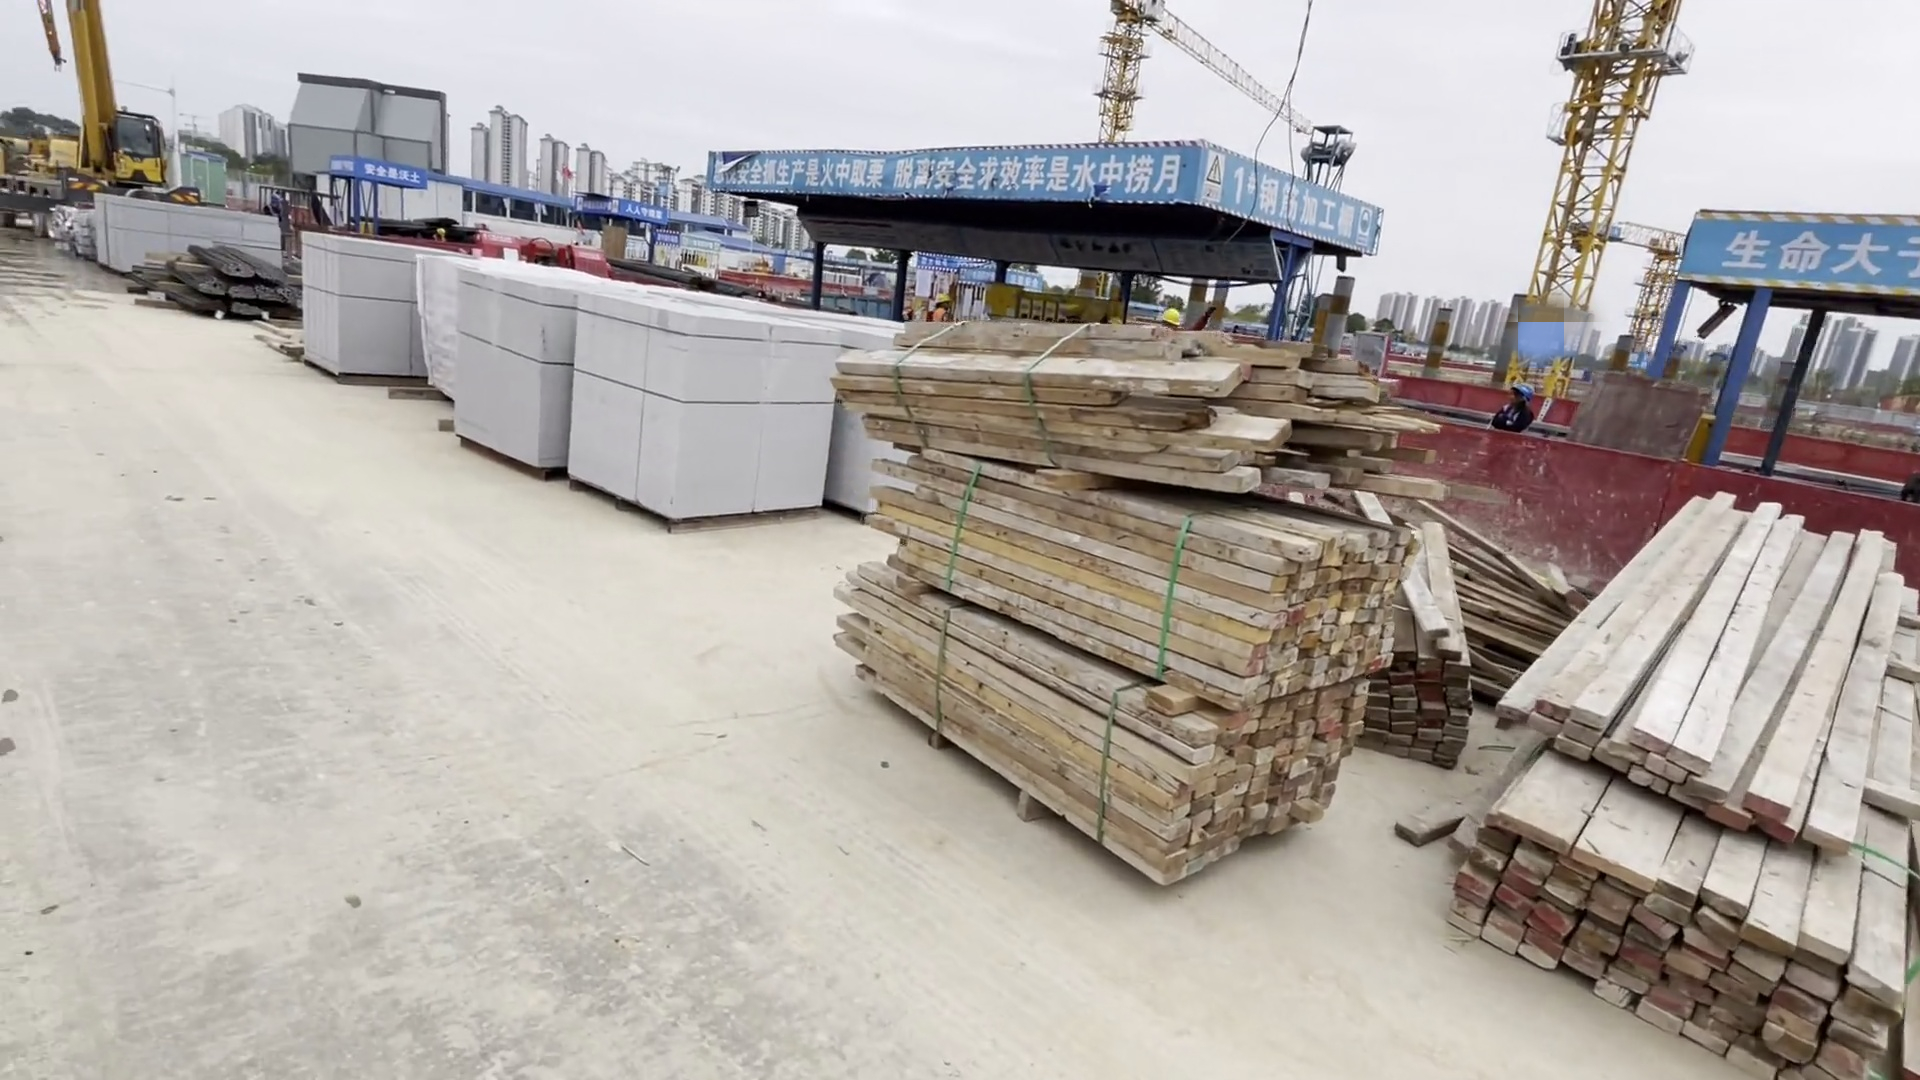brick: (454, 259, 852, 531), (299, 229, 421, 392), (91, 192, 288, 292)
helmet: (1507, 381, 1541, 408), (1154, 305, 1184, 330), (931, 293, 952, 308)
person: (1489, 374, 1542, 436), (924, 294, 951, 321)
slogan: (719, 144, 1362, 238), (1678, 218, 1920, 309), (333, 157, 420, 191), (575, 195, 669, 225), (907, 252, 971, 267)
wood: (841, 314, 1430, 927), (1473, 475, 1920, 1073)
